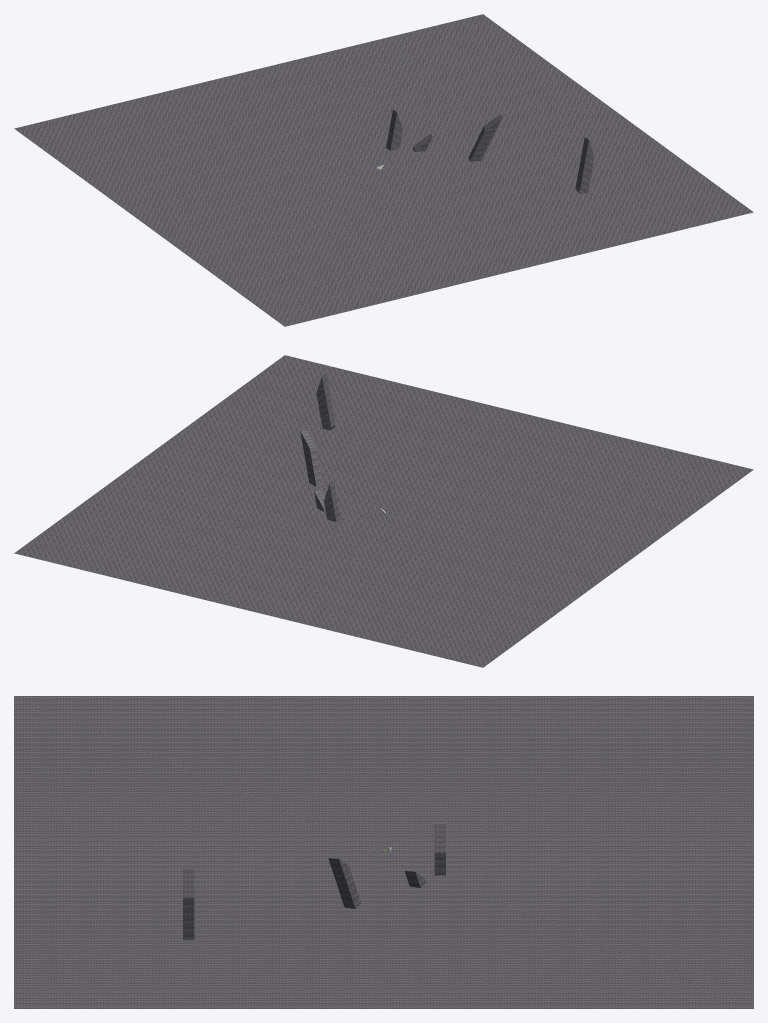
File: myflattest.gltf
3 views of the same model, one above another, from view 1: azimuth 30°, elevation 25°; view 2: azimuth 150°, elevation 25°; view 3: azimuth 270°, elevation 25° (orthographic). The views are drawn at different scales.
Visible parts, largest first — view 1: Plane, Cube.002, Cube.003; view 2: Plane, Cube.003, Cube.002; view 3: Plane, Cube.003, Cube.002, Cube.001.
Part boxes in pixels (x1,y1,x2,y2): Plane: (14,14,753,326); Cube.002: (575,137,594,194); Cube.003: (468,114,501,161); Plane: (14,355,753,667); Cube.003: (300,429,322,486); Cube.002: (316,373,335,430); Plane: (14,696,753,1008); Cube.003: (328,858,360,908); Cube.002: (183,868,194,939); Cube.001: (434,823,445,875).
Bounding box in the file's own units: 1000 × 196 × 1000.
Materials: 5 (1 with a texture image).
